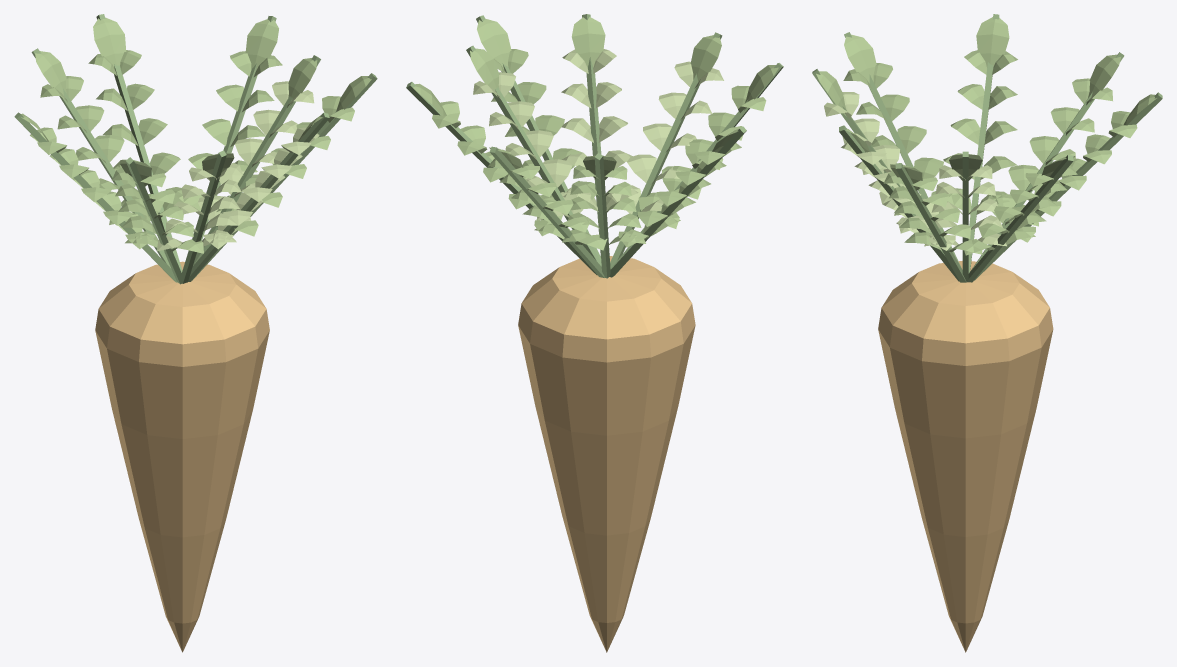
The model's file is crafted-crop-carrot-harvest.glb.
3 views of the same model, side by side, from view 1: azimuth 30°, elevation 25°; view 2: azimuth 150°, elevation 25°; view 3: azimuth 270°, elevation 25° (orthographic).
Parts seen in each view (by area): view 1: underground-root, root-shoulder, frond-tip-2, frond-tip-5, frond-tip-7, frond-tip, frond-stem-0-2, frond-stem-0, frond-stem-0-3, frond-stem-0-6, frond-stem-0-1, frond-stem-0-4 (+6 smaller); view 2: underground-root, root-shoulder, frond-tip-3, frond-tip-8, frond-tip-6, frond-stem-0-6, frond-tip, frond-stem-0-2, frond-stem-0, frond-stem-0-4, frond-stem-1-5, frond-stem-1-2 (+4 smaller); view 3: underground-root, root-shoulder, frond-tip-4, frond-tip-1, frond-stem-0-5, frond-tip-7, frond-stem-0-4, frond-stem-0-8, frond-stem-1-2, frond-stem-1-5, frond-tip-6, frond-stem-1-3 (+2 smaller).
Part boxes in pixels (box(x1,y1,x2,y2)): underground-root: box(95, 331, 269, 652); root-shoulder: box(95, 261, 269, 366); frond-tip-2: box(93, 17, 126, 68); frond-tip-5: box(245, 19, 278, 70); frond-tip-7: box(35, 51, 66, 99); frond-tip: box(288, 58, 317, 105); frond-stem-0-2: box(129, 122, 182, 272); frond-stem-0: box(193, 146, 266, 265); frond-stem-0-3: box(188, 180, 271, 281); frond-stem-0-6: box(182, 205, 210, 283); frond-stem-0-1: box(147, 211, 182, 284); frond-stem-0-4: box(81, 182, 177, 282); underground-root: box(518, 325, 695, 652); root-shoulder: box(518, 256, 695, 362); frond-tip-3: box(571, 17, 605, 67); frond-tip-8: box(477, 18, 511, 68); frond-tip-6: box(690, 35, 721, 81); frond-stem-0-6: box(610, 130, 677, 268); frond-tip: box(470, 48, 499, 96); frond-stem-0-2: box(535, 199, 604, 277); frond-stem-0: box(521, 138, 601, 266); frond-stem-0-4: box(609, 189, 691, 277); frond-stem-1-5: box(406, 82, 490, 165); frond-stem-1-2: box(489, 146, 542, 204); underground-root: box(878, 329, 1053, 652); root-shoulder: box(878, 261, 1053, 365); frond-tip-4: box(976, 17, 1009, 67); frond-tip-1: box(844, 34, 876, 83); frond-stem-0-5: box(966, 205, 1031, 282); frond-tip-7: box(1088, 54, 1120, 102); frond-stem-0-4: box(968, 121, 987, 273); frond-stem-0-8: box(922, 210, 966, 282); frond-stem-1-2: box(1080, 92, 1162, 173); frond-stem-1-5: box(1026, 155, 1073, 211); frond-tip-6: box(816, 71, 846, 116); frond-stem-1-3: box(839, 125, 893, 193).
Size of the model in its own units: 0.5373 by 0.928 by 0.52.
